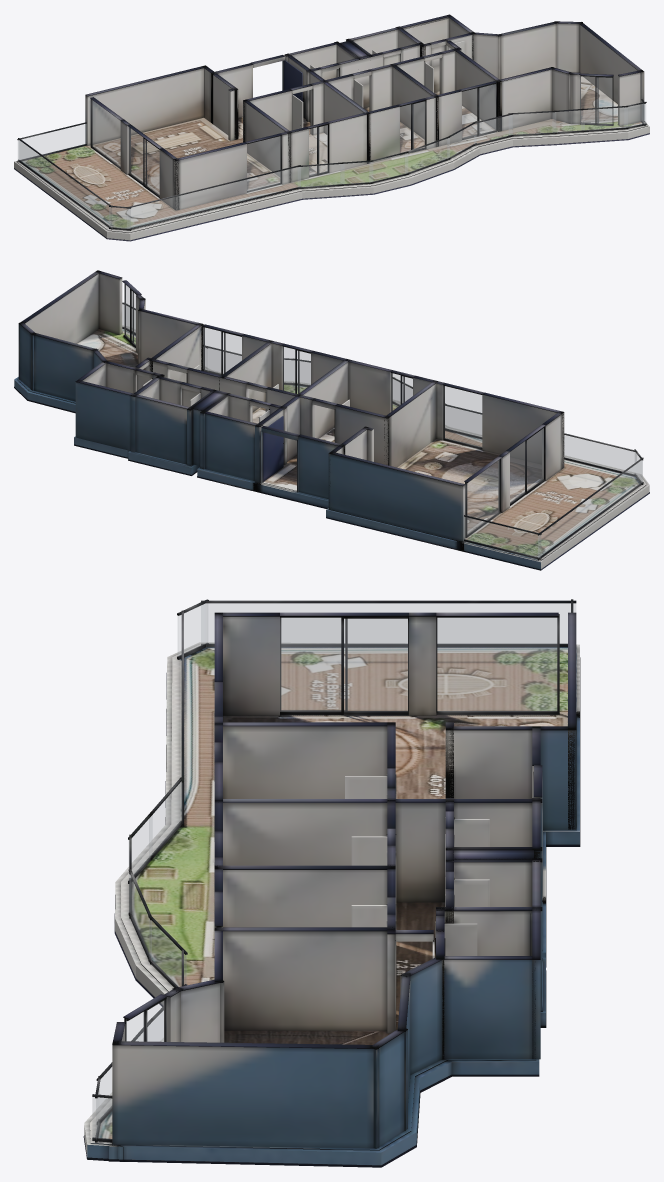
3 renders of one model, top to bottom at view 1: azimuth 30°, elevation 25°; view 2: azimuth 150°, elevation 25°; view 3: azimuth 270°, elevation 25°, orthographic. The views are drawn at different scales.
Visible parts, largest first — view 1: plan, railg1_m, railg14_m, glass2_m, glass5_m, railg0_m, glass0_m, glass1_m, glass6_m, glass4_m, railg6_m, railg9_m (+10 smaller); view 2: plan, railg1_m, railg14_m, glass2_m, railg0_m, glass0_m, glass1_m, glass5_m, glass4_m, glass3_m, glass6_m, railg2_m; view 3: plan, glass1_m, glass0_m, railg14_m, railg10_m, railg12_m, railg13_m, glass6_m, railg11_m, railg8_m, railg4_m.
Part boxes in pixels (x1=…): plan: x1=14, y1=14, x2=649, y2=241; railg1_m: x1=127, y1=167, x2=300, y2=228; railg14_m: x1=19, y1=140, x2=111, y2=227; glass2_m: x1=247, y1=136, x2=280, y2=190; glass5_m: x1=462, y1=84, x2=495, y2=138; railg0_m: x1=18, y1=124, x2=86, y2=160; glass0_m: x1=92, y1=100, x2=120, y2=166; glass1_m: x1=129, y1=127, x2=159, y2=194; glass6_m: x1=580, y1=76, x2=612, y2=123; glass4_m: x1=400, y1=101, x2=424, y2=152; railg6_m: x1=581, y1=107, x2=627, y2=130; railg9_m: x1=509, y1=112, x2=555, y2=134; plan: x1=14, y1=270, x2=649, y2=570; railg1_m: x1=445, y1=406, x2=636, y2=474; railg14_m: x1=538, y1=460, x2=642, y2=558; glass2_m: x1=444, y1=386, x2=481, y2=447; railg0_m: x1=464, y1=517, x2=540, y2=557; glass0_m: x1=467, y1=460, x2=499, y2=534; glass1_m: x1=510, y1=428, x2=543, y2=503; glass5_m: x1=204, y1=327, x2=241, y2=374; glass4_m: x1=283, y1=347, x2=310, y2=393; glass3_m: x1=391, y1=373, x2=412, y2=411; glass6_m: x1=124, y1=283, x2=135, y2=344; railg2_m: x1=209, y1=348, x2=241, y2=373; plan: x1=83, y1=599, x2=580, y2=1167; glass1_m: x1=280, y1=618, x2=407, y2=711; glass0_m: x1=437, y1=618, x2=556, y2=711; railg14_m: x1=201, y1=603, x2=575, y2=643; railg10_m: x1=149, y1=919, x2=186, y2=986; railg12_m: x1=149, y1=782, x2=181, y2=857; railg13_m: x1=178, y1=604, x2=207, y2=656; glass6_m: x1=126, y1=1001, x2=163, y2=1041; railg11_m: x1=130, y1=875, x2=151, y2=961; railg8_m: x1=129, y1=816, x2=152, y2=880; railg4_m: x1=92, y1=1097, x2=111, y2=1139.
Bounding box in the file's own units: 24.81 × 2.62 × 10.19.
Materials: 2 (1 with a texture image).
